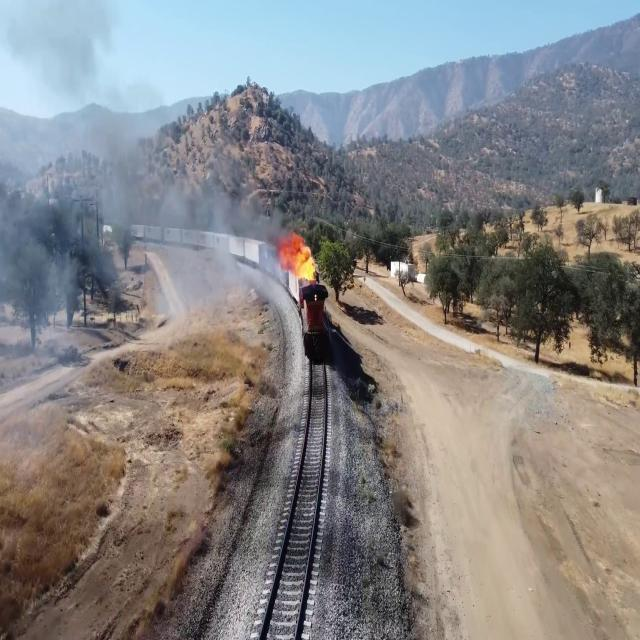Fire: (283, 228, 321, 284)
Smoke: (184, 182, 229, 300)
